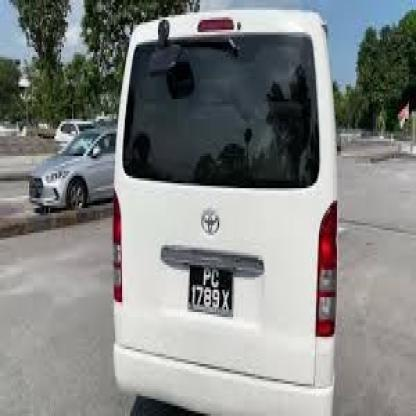number plate: (190, 265, 234, 316)
van back: (109, 0, 338, 416)
